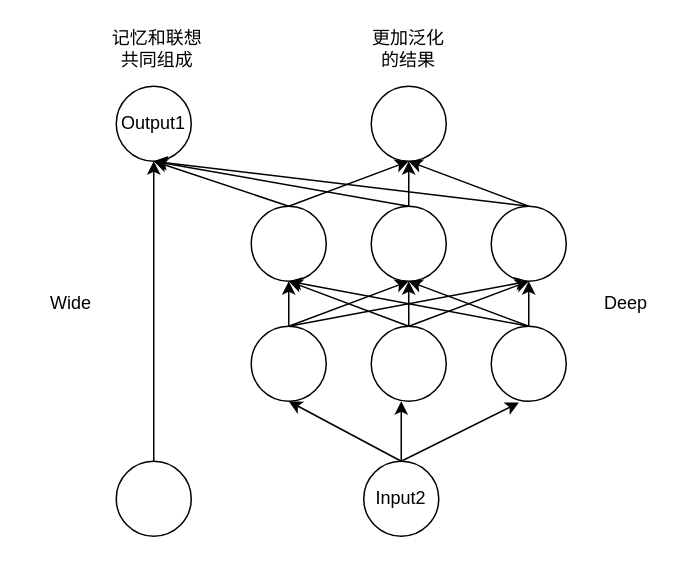
This 696x563 diagram has some shape labels left out. The shapes that lost their labels are listed below. From the top down, each one's centre as x and y in pixels, then its label:
At (408,123): "Output2".
At (153,498): "Input1".
